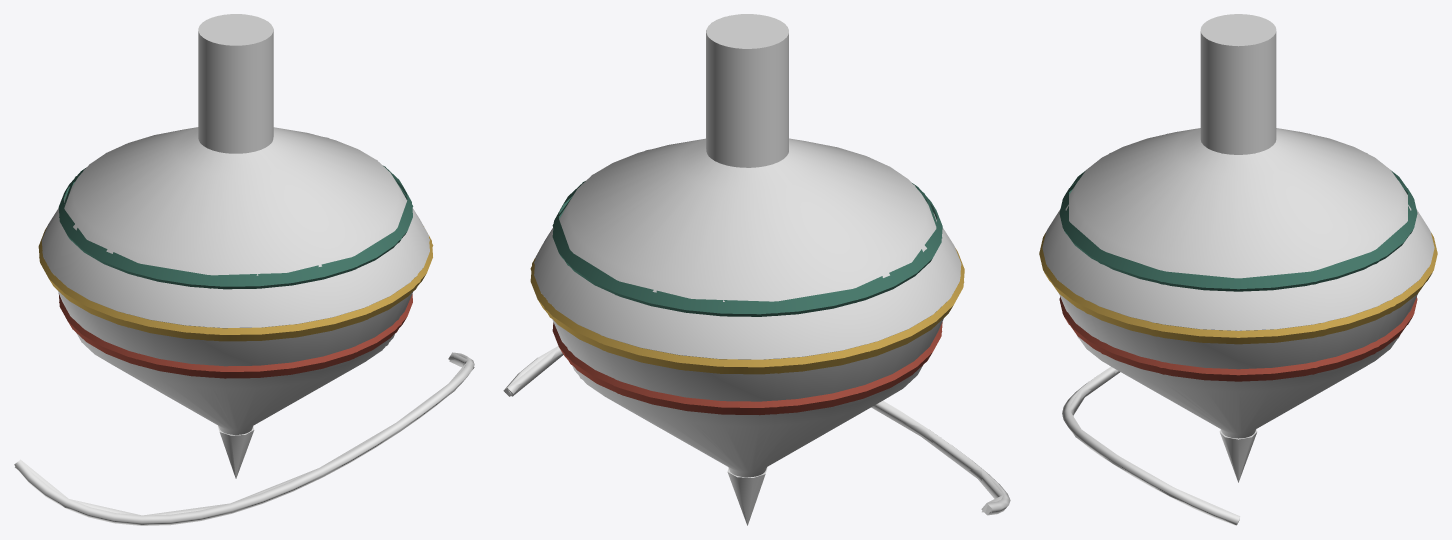
The model's file is inspect_toy_top.glb.
The picture shows the model from 3 angles, left to right: view 1: azimuth 30°, elevation 25°; view 2: azimuth 150°, elevation 25°; view 3: azimuth 270°, elevation 25°; orthographic projection. The views are drawn at different scales.
Parts seen in each view (by area): view 1: inspect_toy_top-0, inspect_toy_top-1, inspect_toy_top_lod-0, inspect_toy_top-3, inspect_toy_top_lod-1, inspect_toy_top_lod-3, inspect_toy_top-2; view 2: inspect_toy_top-0, inspect_toy_top-1, inspect_toy_top_lod-0, inspect_toy_top_lod-1, inspect_toy_top_lod-3, inspect_toy_top-3, inspect_toy_top-2; view 3: inspect_toy_top-0, inspect_toy_top-1, inspect_toy_top_lod-0, inspect_toy_top_lod-1, inspect_toy_top-3, inspect_toy_top_lod-3, inspect_toy_top_lod-2.
Part boxes in pixels (<box>): inspect_toy_top-0: <box>41,14,429,434</box>; inspect_toy_top-1: <box>38,166,432,378</box>; inspect_toy_top_lod-0: <box>42,14,429,432</box>; inspect_toy_top-3: <box>14,352,474,525</box>; inspect_toy_top_lod-1: <box>39,166,433,377</box>; inspect_toy_top_lod-3: <box>15,352,474,524</box>; inspect_toy_top-2: <box>218,426,253,478</box>; inspect_toy_top-0: <box>534,14,961,477</box>; inspect_toy_top-1: <box>530,182,964,415</box>; inspect_toy_top_lod-0: <box>534,14,960,474</box>; inspect_toy_top_lod-1: <box>530,181,964,414</box>; inspect_toy_top_lod-3: <box>507,346,1003,512</box>; inspect_toy_top-3: <box>503,346,1010,515</box>; inspect_toy_top-2: <box>737,467,767,525</box>; inspect_toy_top-0: <box>1042,14,1434,438</box>; inspect_toy_top-1: <box>1039,170,1437,381</box>; inspect_toy_top_lod-0: <box>1047,15,1429,438</box>; inspect_toy_top_lod-1: <box>1044,179,1432,381</box>; inspect_toy_top-3: <box>1062,367,1239,525</box>; inspect_toy_top_lod-3: <box>1062,367,1239,524</box>; inspect_toy_top_lod-2: <box>1219,430,1257,482</box>.
Size of the model in its own units: 0.0818 by 0.079 by 0.063.
